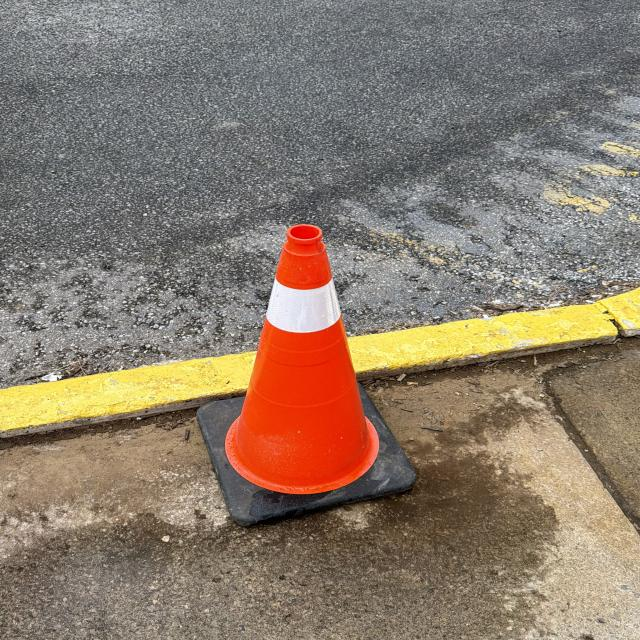Traffic Cone: (198, 223, 424, 526)
